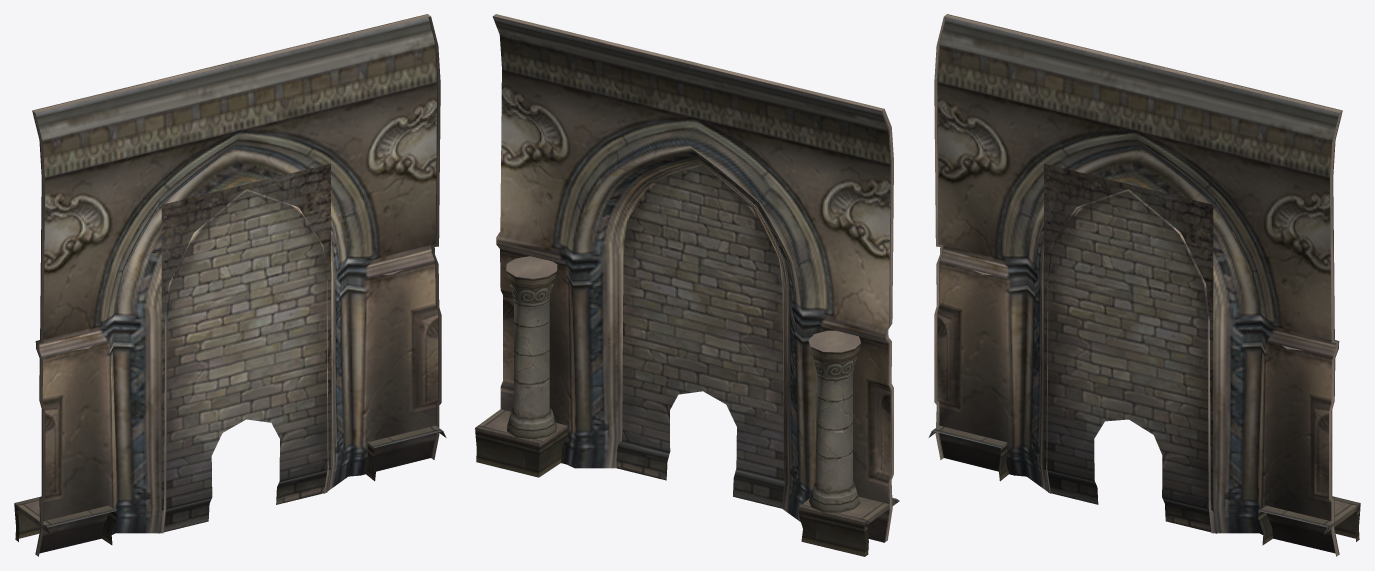
3 renders of one model, left to right at view 1: azimuth 30°, elevation 25°; view 2: azimuth 150°, elevation 25°; view 3: azimuth 330°, elevation 25°, orthographic.
Visible parts, largest first — view 1: DN_1_4_dt02a_b; view 2: DN_1_4_dt02a_b; view 3: DN_1_4_dt02a_b.
Boxes of the visible parts, x1,y1,x2,y2 form: DN_1_4_dt02a_b: (14, 14, 446, 556); DN_1_4_dt02a_b: (475, 14, 899, 556); DN_1_4_dt02a_b: (928, 14, 1360, 556).
Size of the model in its own units: 1989 by 2122 by 322.
